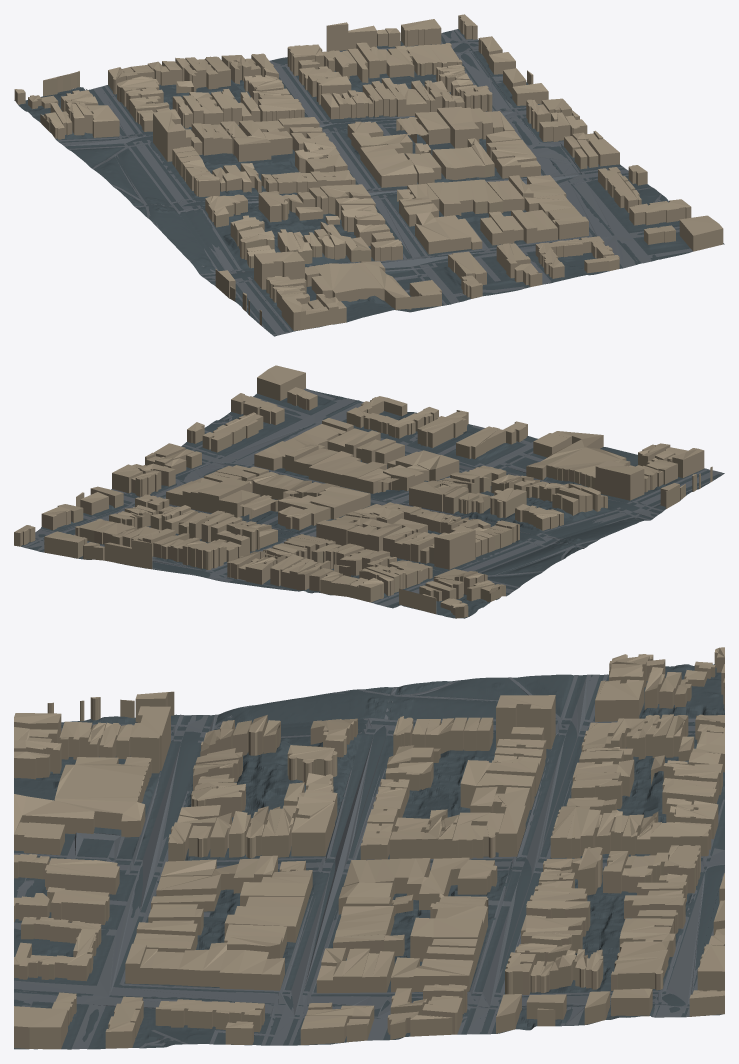
Rendered from epsg26910-1432-10888.lod0.glb.
The picture shows the model from 3 angles, top to bottom: view 1: azimuth 30°, elevation 25°; view 2: azimuth 150°, elevation 25°; view 3: azimuth 270°, elevation 25°; orthographic projection. The views are drawn at different scales.
Visible parts, largest first — view 1: epsg26910-1432-10888-lod0; view 2: epsg26910-1432-10888-lod0; view 3: epsg26910-1432-10888-lod0.
Boxes of the visible parts, x1,y1,x2,y2 form: epsg26910-1432-10888-lod0: (14, 14, 724, 336); epsg26910-1432-10888-lod0: (14, 365, 724, 618); epsg26910-1432-10888-lod0: (14, 647, 724, 1049).
Bounding box in the file's own units: 384 × 63.03 × 384.
